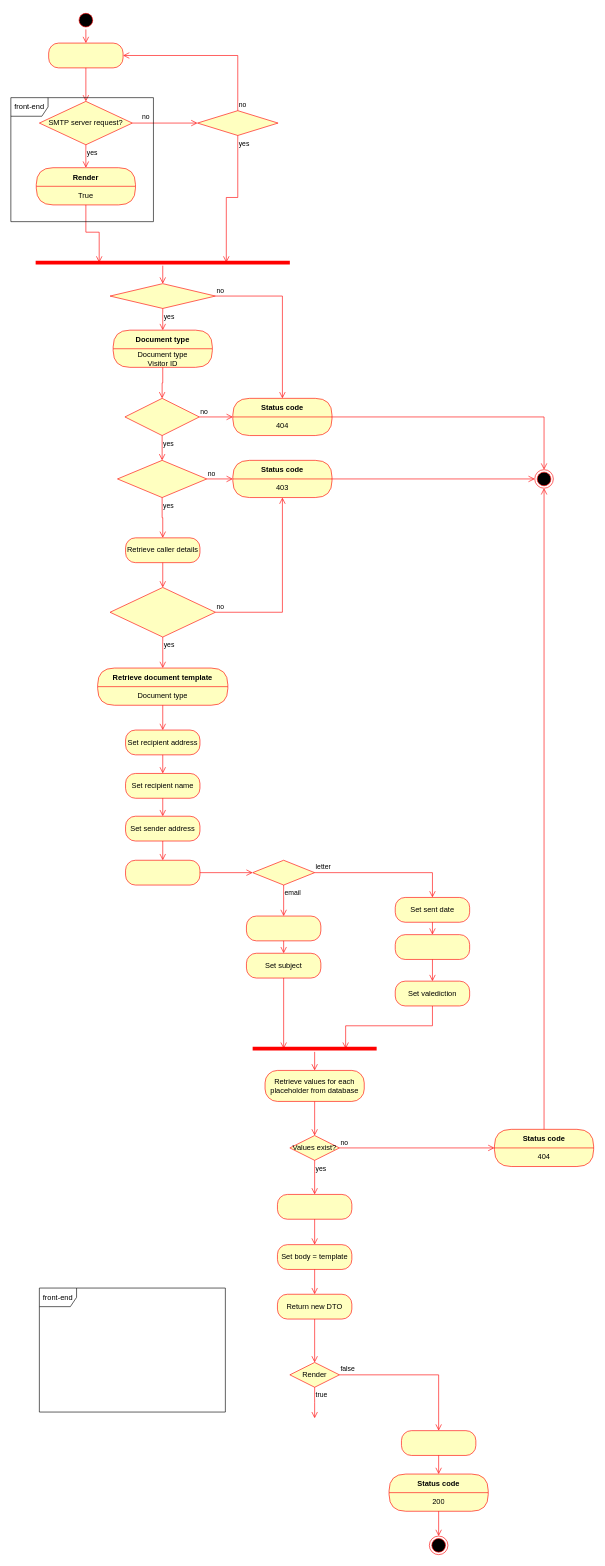
Image size: 605x1566. Some labels were removed from this diagram. The centre of each missing label's shape, as x and y in pixels:
"API request?" belongs at [237,122].
"Await requests" belongs at [85,55].
"Caller details have administrator or office authorisation?" belongs at [162,612].
"Document medium" belongs at [283,872].
"Document type exists?" belongs at [161,417].
"Present DTO" belongs at [438,1442].
"Set cc" belongs at [283,928].
"Set protection" belongs at [432,946].
"Set sender name" belongs at [162,872].
"Substitute placeholder values into template" belongs at [314,1206].
"Valid authorisation token provided?" belongs at [162,479].
"Valid request format?" belongs at [162,295].
